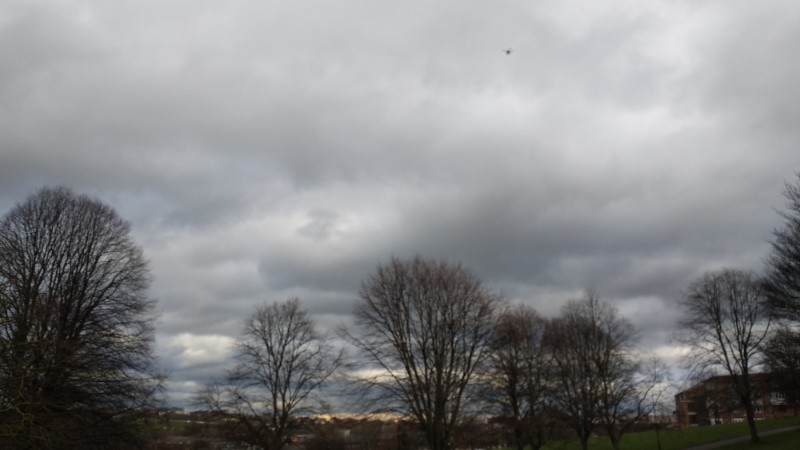drone: (502, 46, 514, 56)
